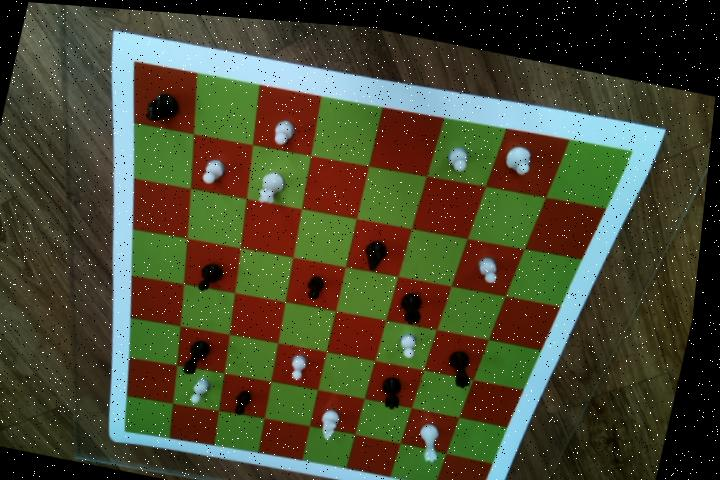chessboard-detect: (132, 57, 633, 480)
